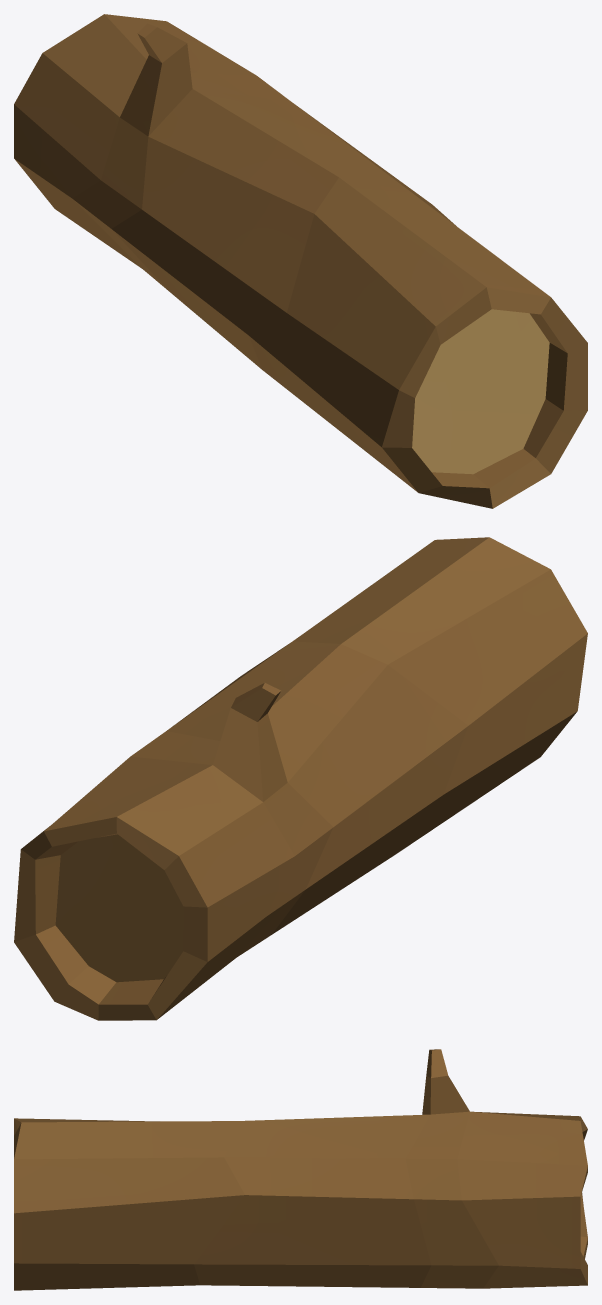
Rendered from log_5.glb.
The picture shows the model from 3 angles, top to bottom: view 1: azimuth 30°, elevation 25°; view 2: azimuth 150°, elevation 25°; view 3: azimuth 270°, elevation 25°; orthographic projection. The views are drawn at different scales.
Visible parts, largest first — view 1: log_5; view 2: log_5; view 3: log_5.
Boxes of the visible parts, x1,y1,x2,y2 form: log_5: (14, 14, 587, 508); log_5: (14, 537, 587, 1020); log_5: (14, 1049, 587, 1290).
Bounding box in the file's own units: 0.1604 × 0.2302 × 0.558.
Materials: 1 (1 with a texture image).
